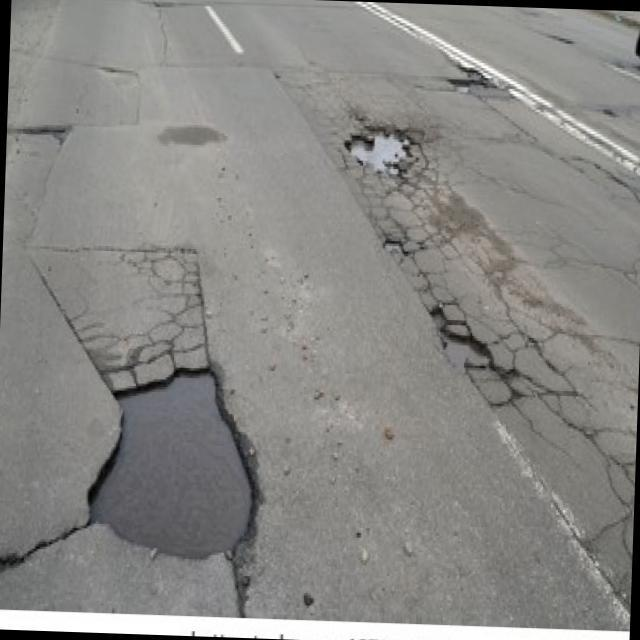pothole: (84, 360, 259, 559), (343, 125, 412, 177), (437, 325, 494, 371), (430, 304, 448, 327), (449, 77, 486, 88), (382, 238, 406, 254), (460, 64, 480, 75)
